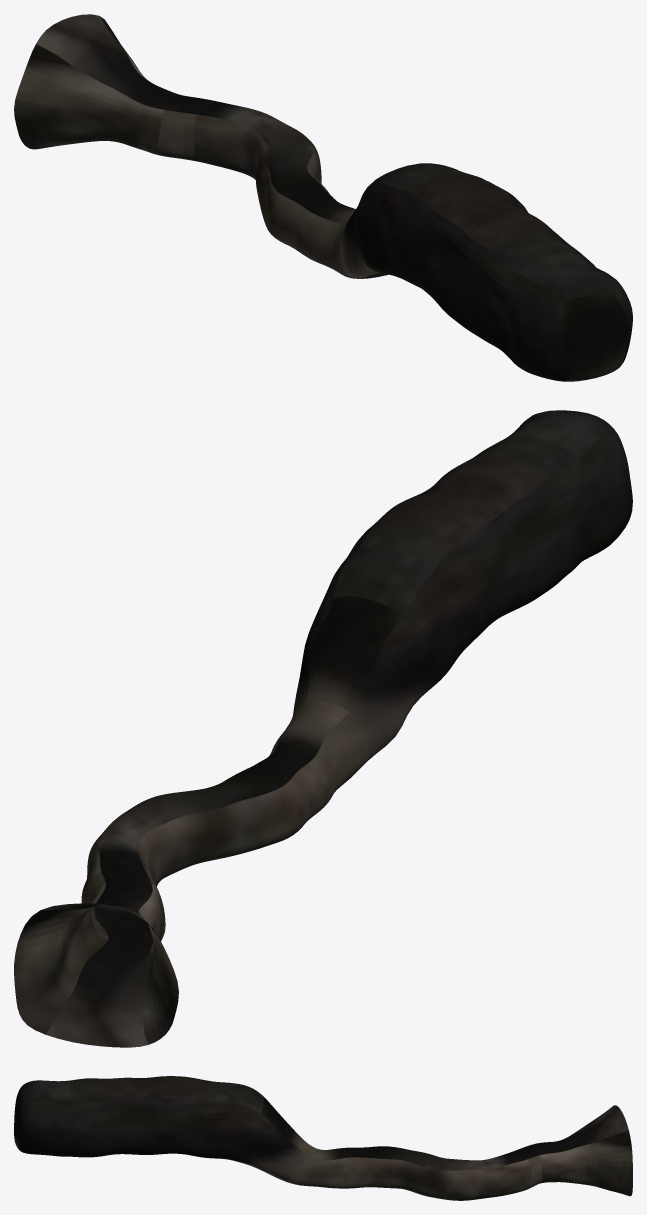
Rendered from cave6.fbx.
3 renders of one model, top to bottom at view 1: azimuth 30°, elevation 25°; view 2: azimuth 150°, elevation 25°; view 3: azimuth 270°, elevation 25°, orthographic. The views are drawn at different scales.
Visible parts, largest first — view 1: Cube; view 2: Cube; view 3: Cube.
Part boxes in pixels (bbox=[...]): Cube: bbox=[14, 14, 632, 381]; Cube: bbox=[14, 410, 632, 1047]; Cube: bbox=[14, 1076, 632, 1200].
Bounding box in the file's own units: 690 × 706 × 3243.
